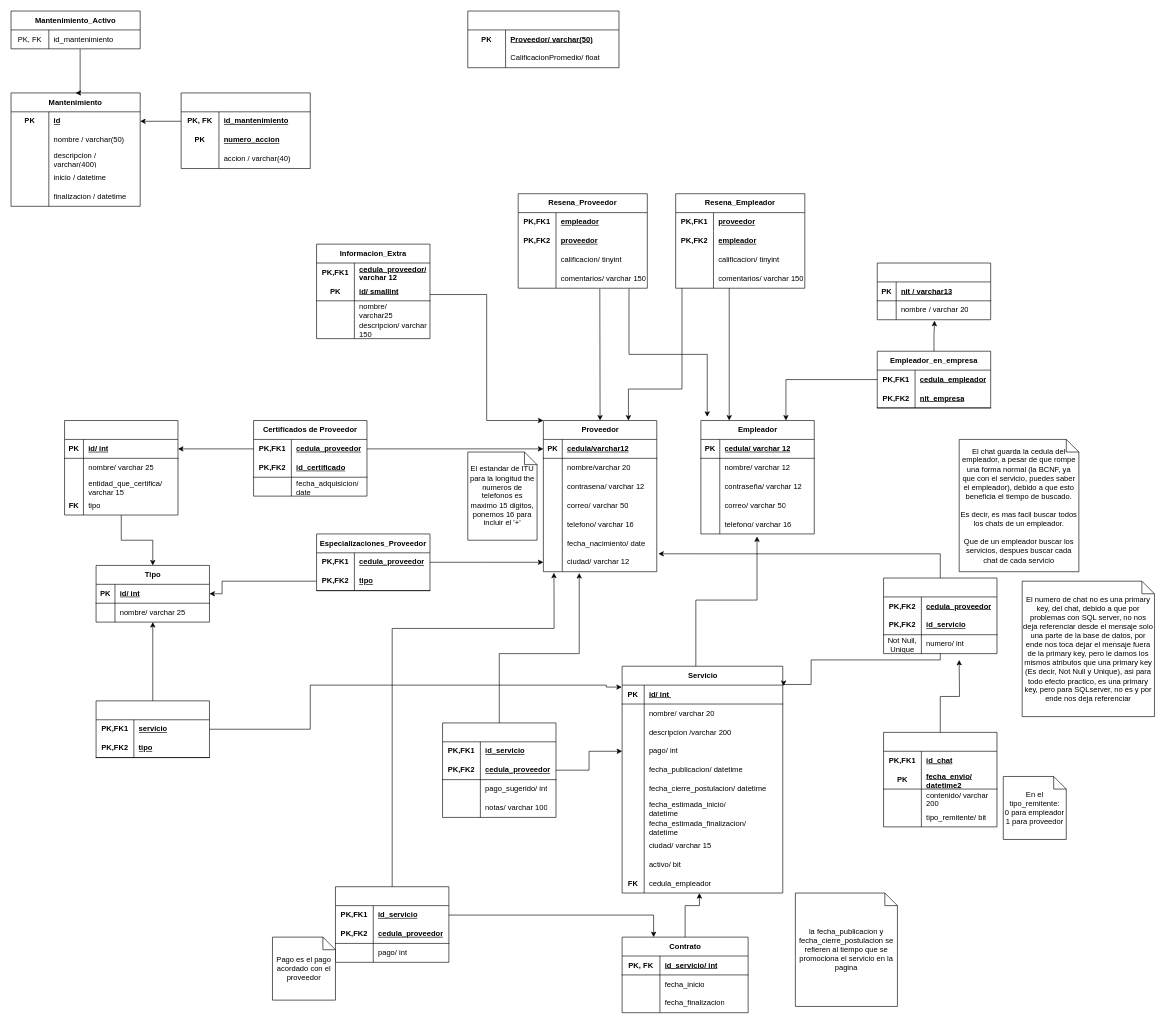
This 1166x1024 diagram has some shape labels left out. Here are the shapes that lost their labels. From the top down, the box of each, then its label:
(467, 10, 619, 68): Promedio_Calificaciones_Proveedor
(180, 92, 310, 169): Acciones_Mantenimientos
(877, 262, 991, 320): Empresa
(64, 420, 178, 515): Certificado
(883, 577, 997, 654): Chat
(95, 700, 209, 758): Tipo_De_Servicio
(442, 722, 556, 817): Postulaciones_Servicio
(883, 732, 997, 827): Mensaje
(335, 886, 449, 962): Proveedores_en_contrato
